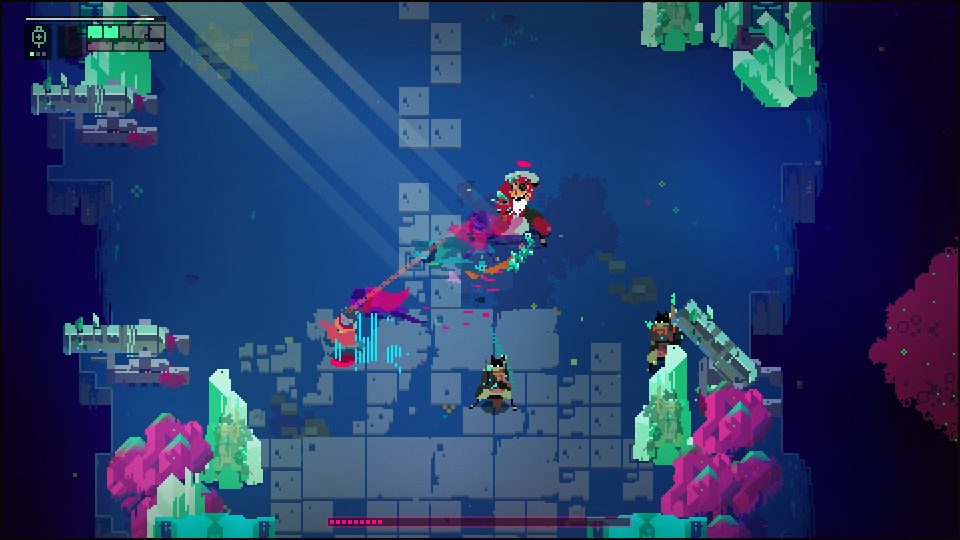hanged_man: (470, 169, 549, 278)
player: (320, 307, 366, 365)
